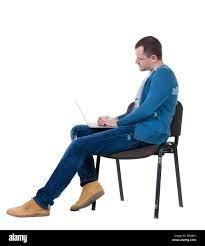bad-pose: (0, 0, 205, 246)
